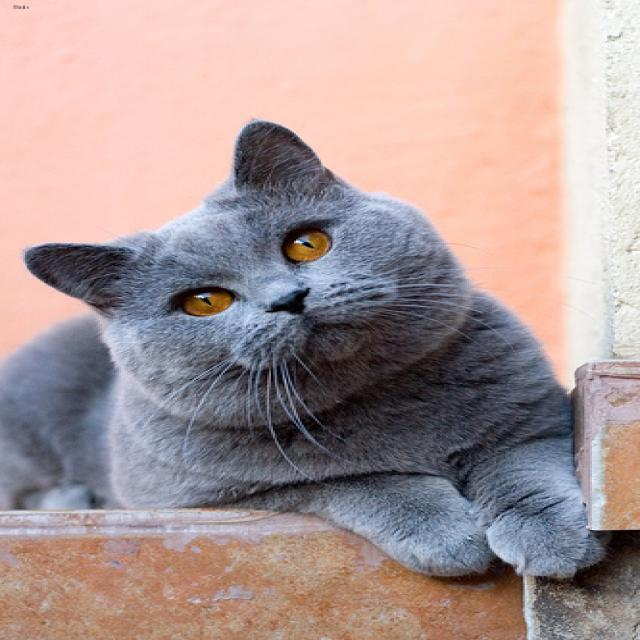British_Shorthair: (19, 119, 442, 390)
